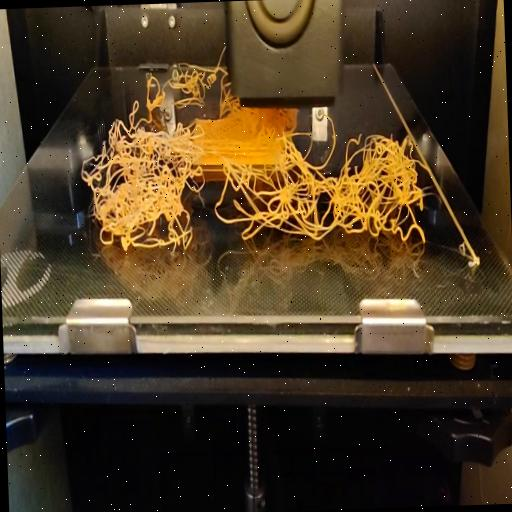spaghetti: (80, 98, 422, 258), (140, 50, 232, 106)
